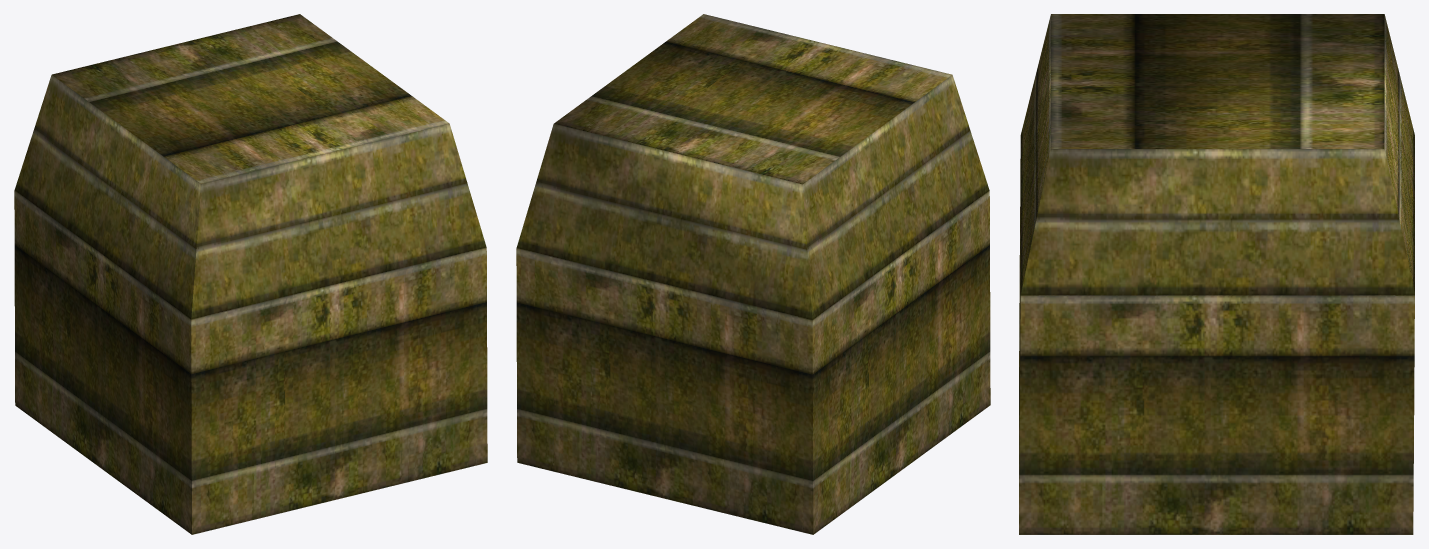
File: OVERHILL_A_01_OBJECT179.fbx
3 renders of one model, left to right at view 1: azimuth 30°, elevation 25°; view 2: azimuth 150°, elevation 25°; view 3: azimuth 270°, elevation 25°, orthographic. The views are drawn at different scales.
Visible parts, largest first — view 1: OVERHILL_A_01_OBJECT179; view 2: OVERHILL_A_01_OBJECT179; view 3: OVERHILL_A_01_OBJECT179.
Boxes of the visible parts, x1,y1,x2,y2 form: OVERHILL_A_01_OBJECT179: (14, 14, 487, 534); OVERHILL_A_01_OBJECT179: (516, 14, 990, 534); OVERHILL_A_01_OBJECT179: (1019, 14, 1414, 534).
Bounding box in the file's own units: 11426 × 12361 × 11892.
Materials: 2 (2 with a texture image).
